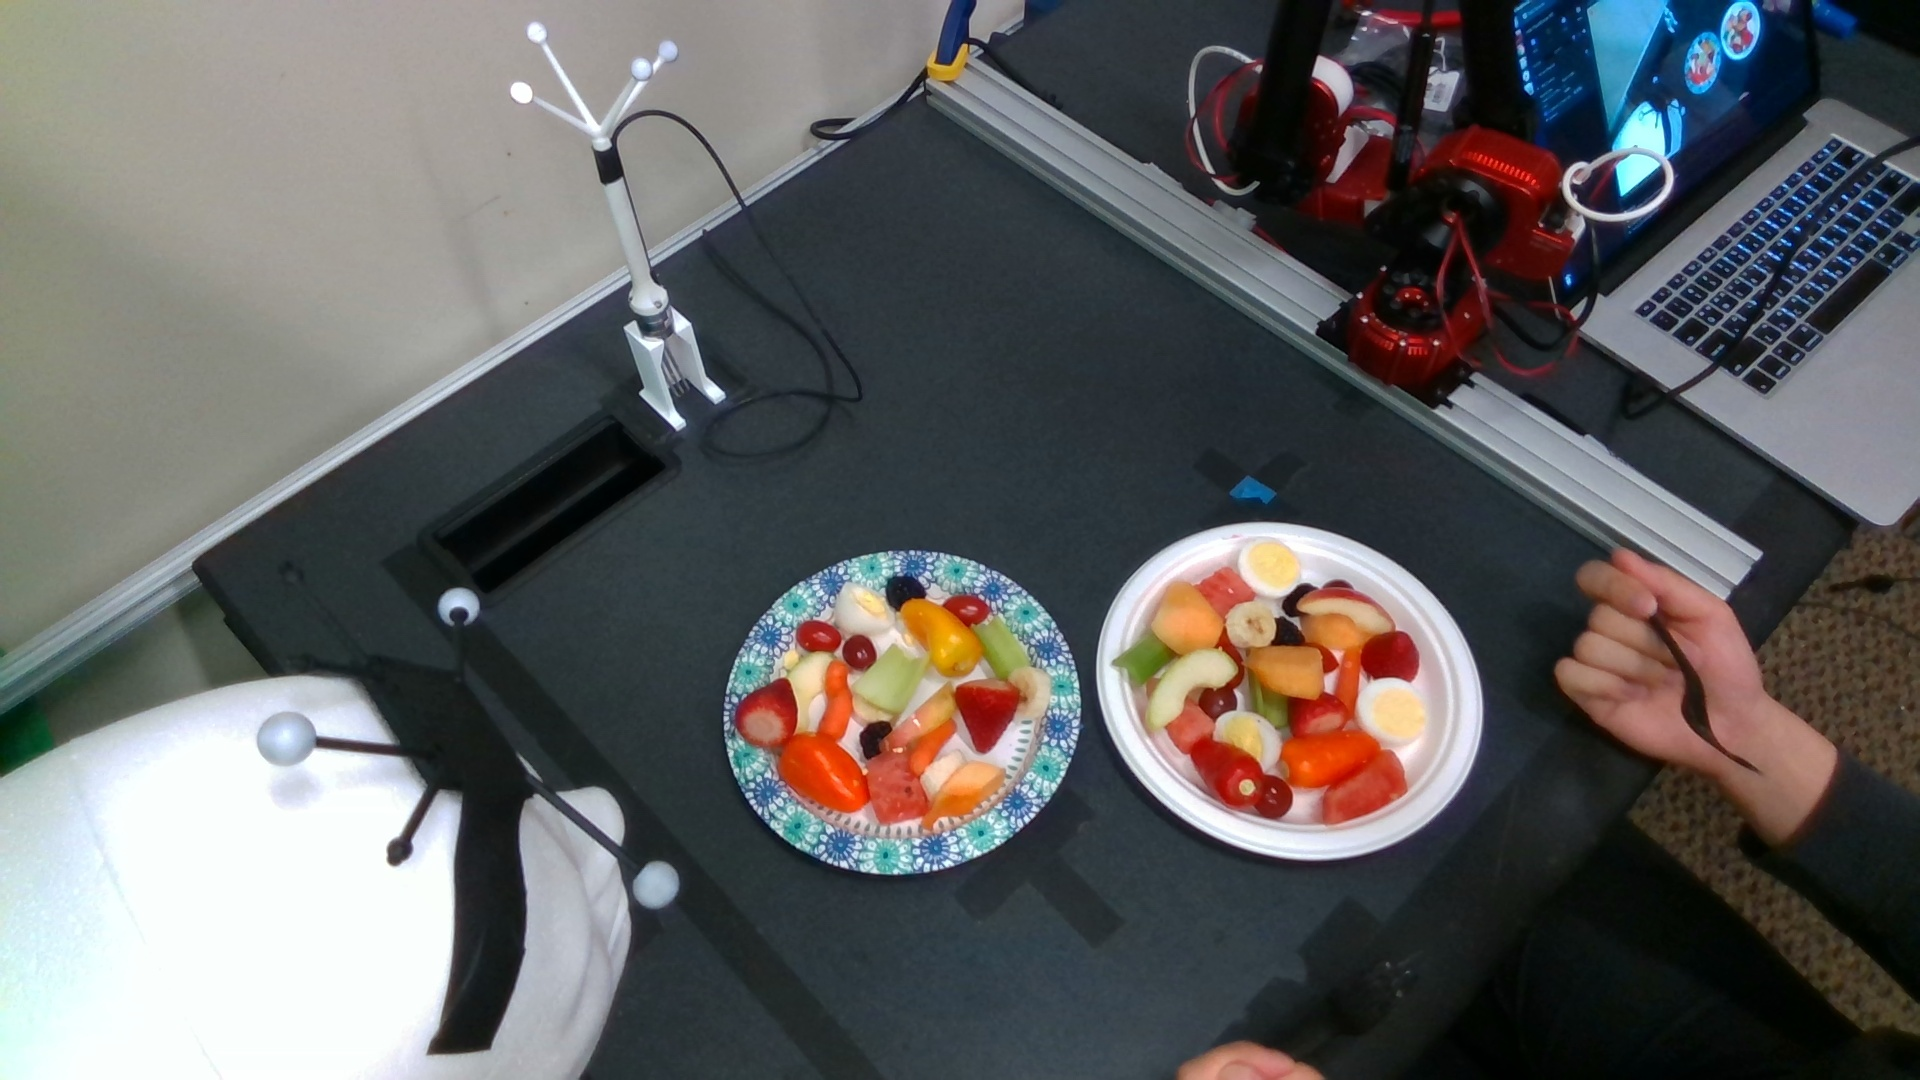apple: (1146, 650, 1238, 735), (880, 684, 956, 752), (1296, 587, 1395, 636), (787, 650, 832, 733)
banana: (1226, 601, 1275, 647), (1010, 666, 1050, 721), (919, 752, 967, 798)
bell pepper: (777, 732, 869, 814), (899, 599, 984, 678), (1280, 729, 1381, 789), (1189, 736, 1265, 807)
blackberry: (887, 576, 926, 612)
cantalope: (922, 760, 1004, 831), (1150, 582, 1222, 653), (1244, 646, 1324, 700)
carrot: (818, 659, 852, 742), (910, 717, 957, 775), (1335, 649, 1362, 719)
celery: (851, 644, 930, 712), (972, 615, 1027, 679), (1113, 633, 1171, 686)
cherry tomato: (942, 596, 989, 625), (796, 621, 841, 651)
egg: (1356, 676, 1425, 744), (1238, 537, 1302, 600), (835, 582, 895, 636)
grape: (1255, 774, 1294, 819), (843, 636, 876, 669)
melon: (1323, 750, 1406, 825), (864, 748, 930, 825), (1193, 567, 1255, 617)
plate: (1095, 524, 1484, 862), (723, 550, 1081, 876)
strawberry: (956, 676, 1018, 754), (735, 676, 796, 749), (1361, 632, 1419, 682), (1288, 691, 1348, 737)
